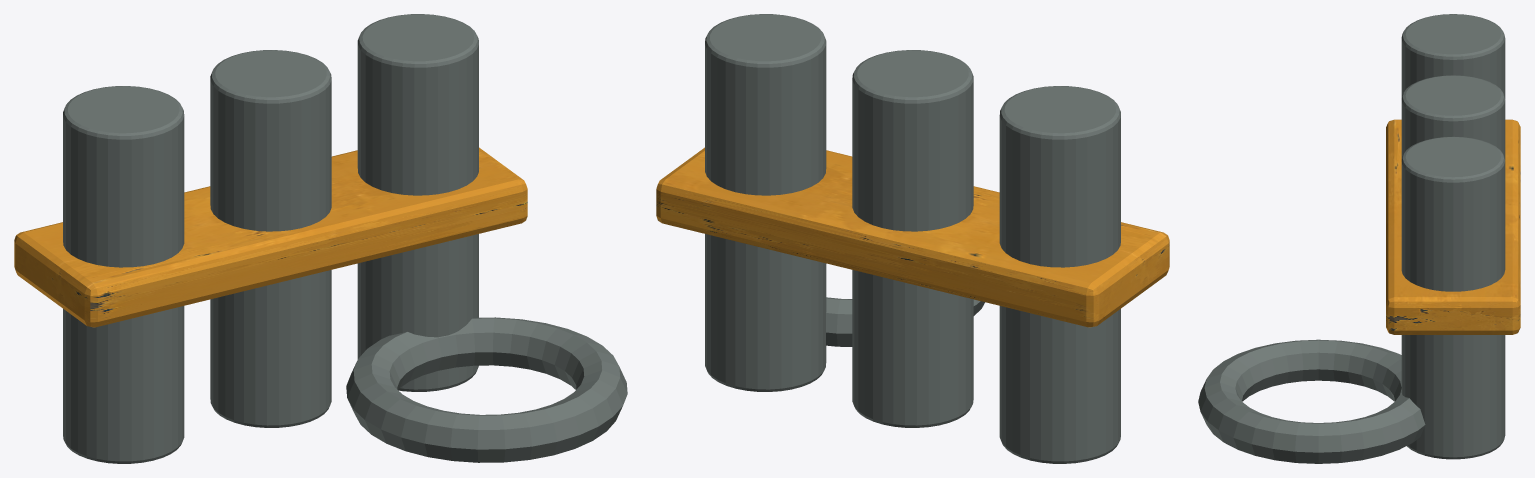
File: scrap-bundle.glb
The picture shows the model from 3 angles, left to right: view 1: azimuth 30°, elevation 25°; view 2: azimuth 150°, elevation 25°; view 3: azimuth 270°, elevation 25°; orthographic projection. The views are drawn at different scales.
Visible parts, largest first — view 1: scrap-bundle__scrap-bundle__hardware, scrap-bundle__scrap-bundle__amber; view 2: scrap-bundle__scrap-bundle__hardware, scrap-bundle__scrap-bundle__amber; view 3: scrap-bundle__scrap-bundle__hardware, scrap-bundle__scrap-bundle__amber.
Part boxes in pixels (box(x1,y1,x2,y2)): scrap-bundle__scrap-bundle__hardware: box(63, 14, 627, 463); scrap-bundle__scrap-bundle__amber: box(14, 147, 527, 327); scrap-bundle__scrap-bundle__hardware: box(705, 14, 1120, 463); scrap-bundle__scrap-bundle__amber: box(656, 147, 1169, 327); scrap-bundle__scrap-bundle__hardware: box(1198, 14, 1505, 463); scrap-bundle__scrap-bundle__amber: box(1386, 119, 1520, 334).
Size of the model in its own units: 0.456 by 0.3 by 0.311.
2 materials, 1 textured.
